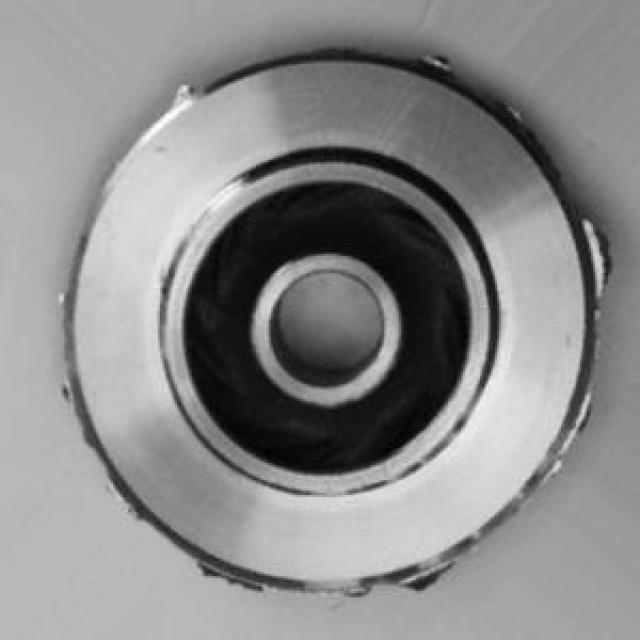Defect: (422, 40, 468, 84), (589, 210, 607, 285)
